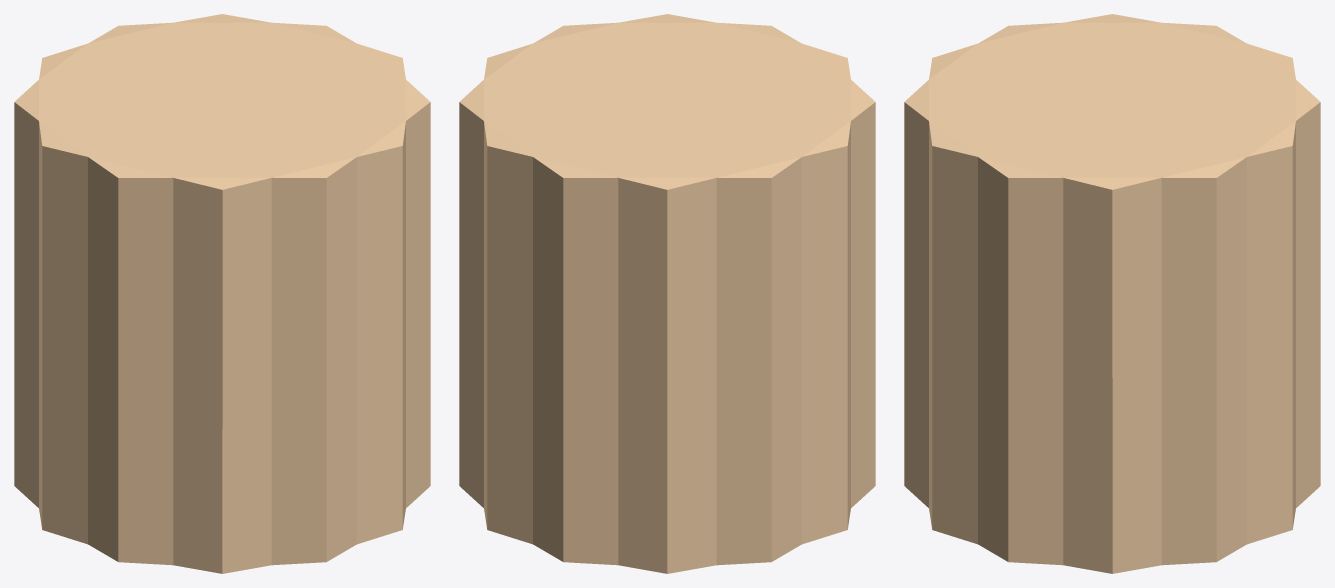
File: small-column-broken.fbx
3 renders of one model, left to right at view 1: azimuth 30°, elevation 25°; view 2: azimuth 150°, elevation 25°; view 3: azimuth 270°, elevation 25°, orthographic.
Parts seen in each view (by area): view 1: small-column_Part_1, small-column_Part_3, small-column_Part_4, small-column_Part_2; view 2: small-column_Part_4, small-column_Part_3, small-column_Part_2, small-column_Part_1; view 3: small-column_Part_1, small-column_Part_4, small-column_Part_2.
Boxes of the visible parts, x1,y1,x2,y2 form: small-column_Part_1: [178, 55, 430, 573]; small-column_Part_3: [22, 182, 212, 572]; small-column_Part_4: [14, 14, 393, 492]; small-column_Part_2: [14, 77, 197, 237]; small-column_Part_4: [459, 62, 794, 573]; small-column_Part_3: [781, 138, 875, 556]; small-column_Part_2: [711, 76, 875, 270]; small-column_Part_1: [486, 14, 850, 100]; small-column_Part_1: [904, 45, 1121, 573]; small-column_Part_4: [1090, 45, 1320, 572]; small-column_Part_2: [972, 14, 1250, 82].
Size of the model in its own units: 54.78 by 56.26 by 54.78.
Materials: 1 (1 with a texture image).
